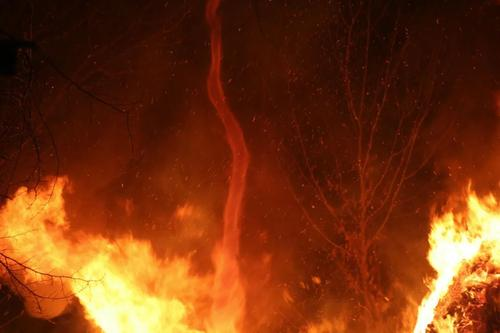fire: (5, 189, 193, 333), (414, 199, 499, 333)
